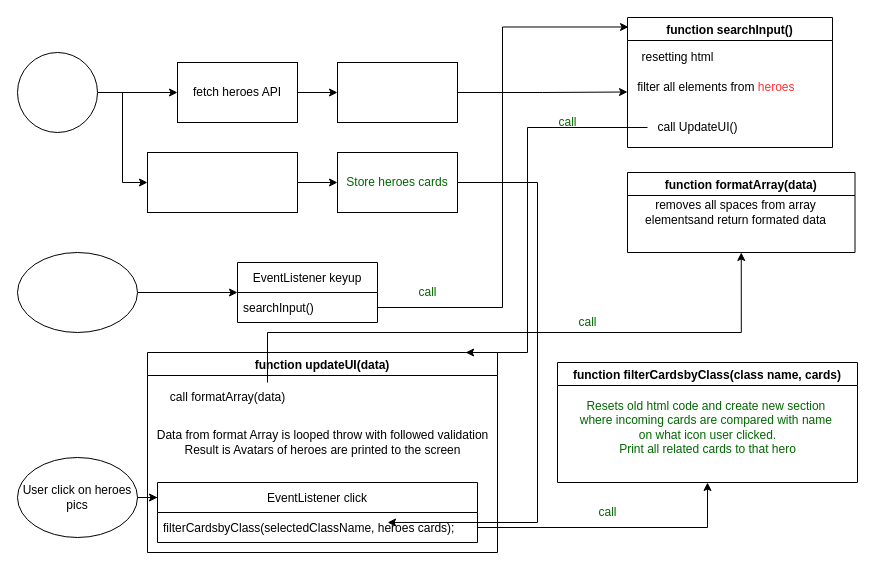
Image size: 875x570. Some labels were removed from this diagram. The centre of each missing label's shape, as x and y in pixels:
fetch heroes cards API: the point at 222,182
Store heroes: the point at 397,92
User hit page: the point at 57,92
User search for class: the point at 77,292
